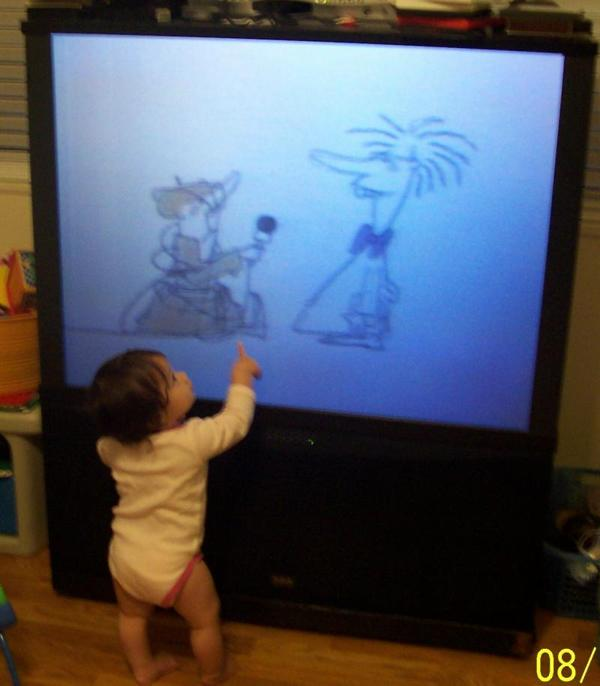person: (87, 342, 264, 685)
